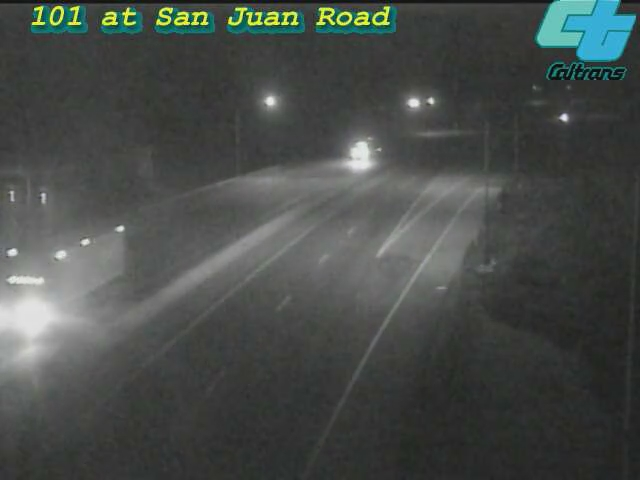vehicle: (25, 233, 105, 313), (319, 112, 399, 192), (540, 92, 590, 142)
